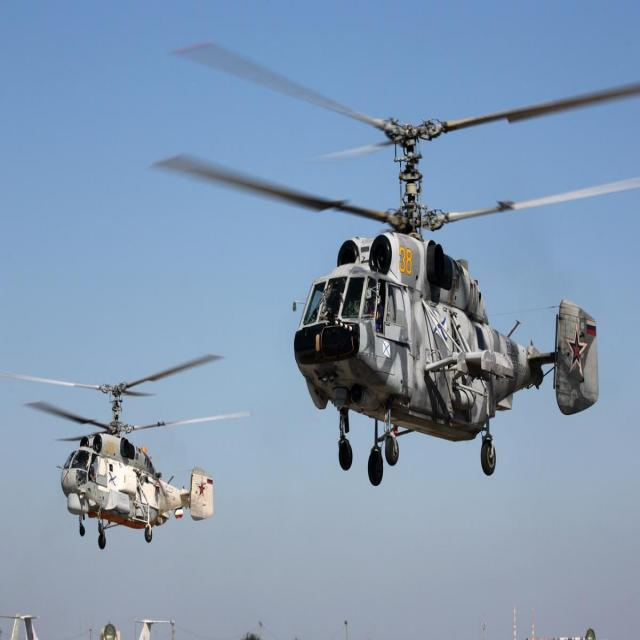MIL_HELO: (155, 27, 640, 517), (2, 349, 250, 551)
